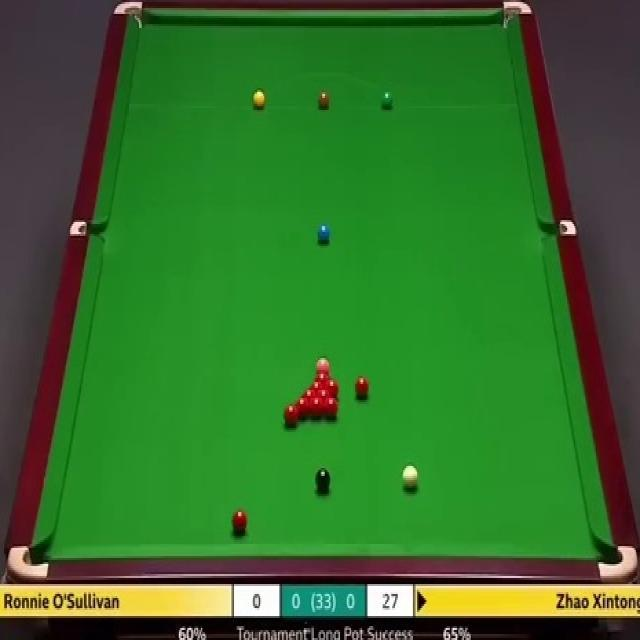pocket: (595, 542, 640, 583), (8, 543, 50, 582), (500, 0, 534, 37), (114, 0, 144, 32), (68, 218, 107, 237), (542, 218, 577, 238)
